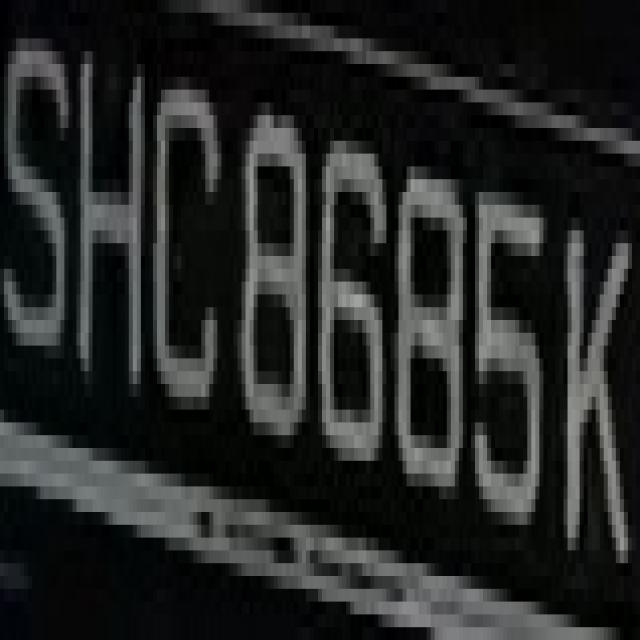5: (467, 153, 551, 538)
6: (302, 102, 402, 512)
8: (394, 102, 471, 525), (233, 102, 314, 486)
C: (145, 51, 233, 461)
H: (64, 51, 149, 474)
K: (555, 166, 632, 589)
S: (8, 51, 68, 422)
